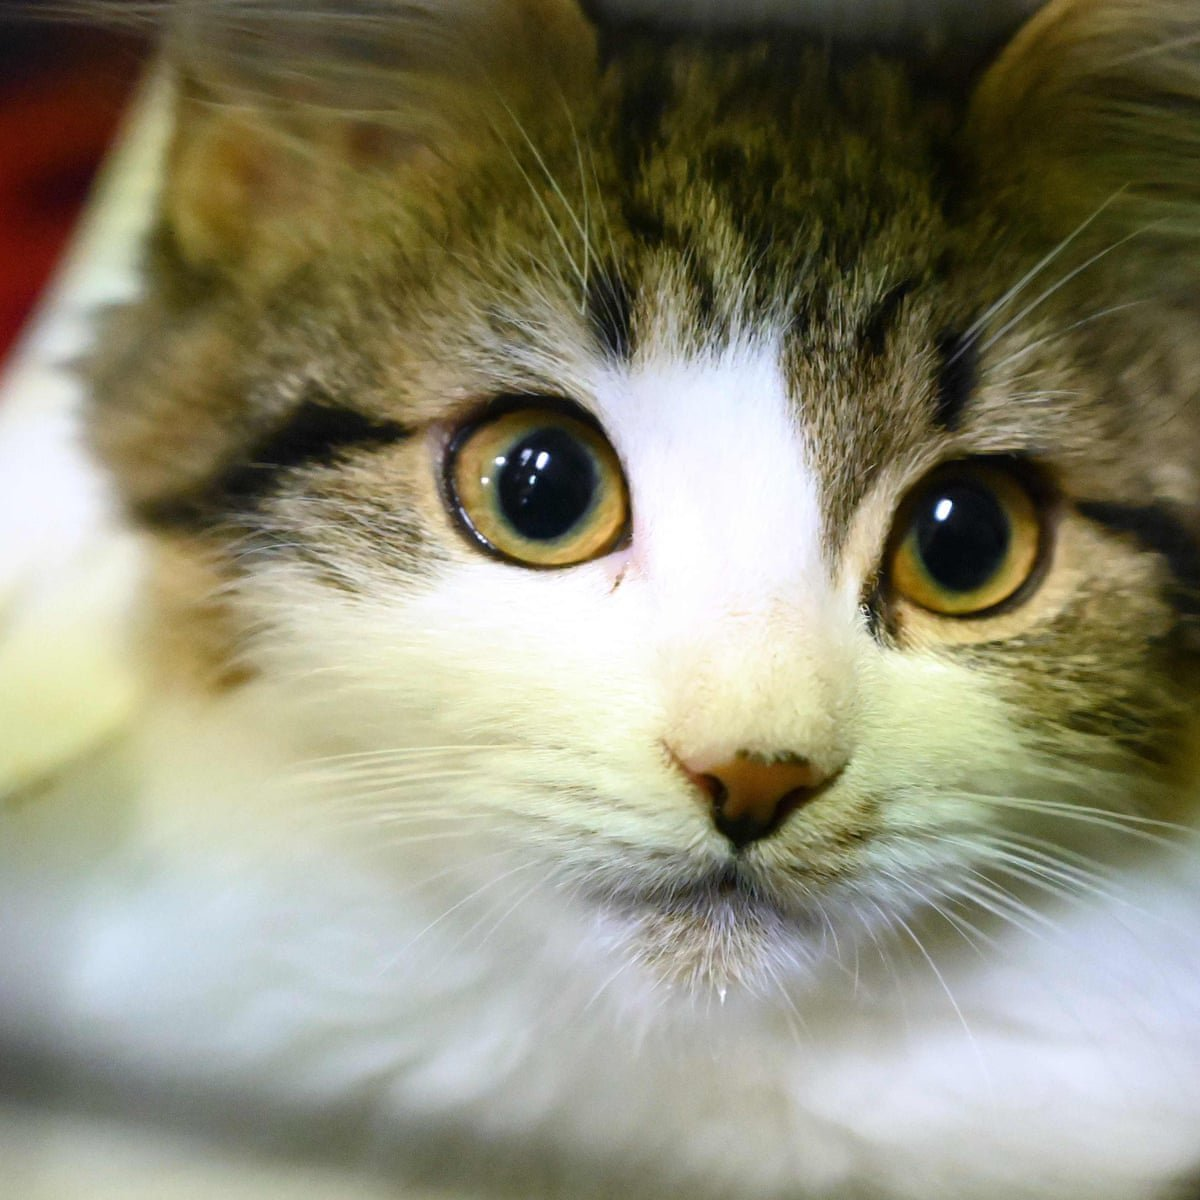cat: (189, 16, 1200, 1038)
